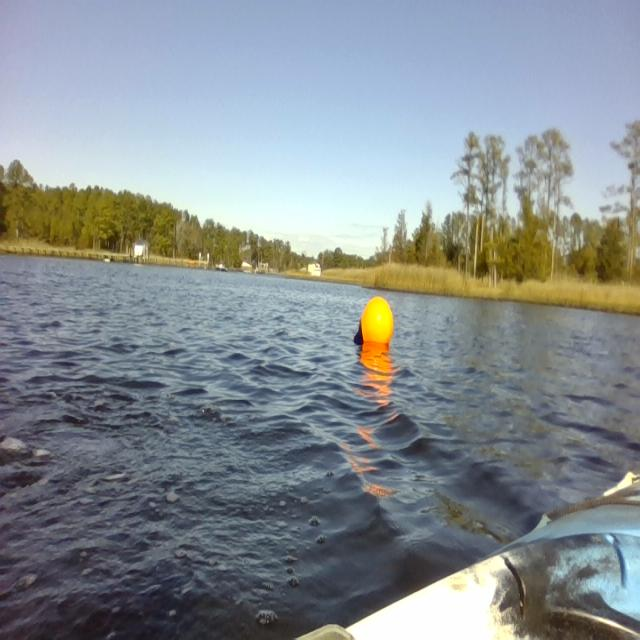Buoy: (353, 294, 398, 353)
